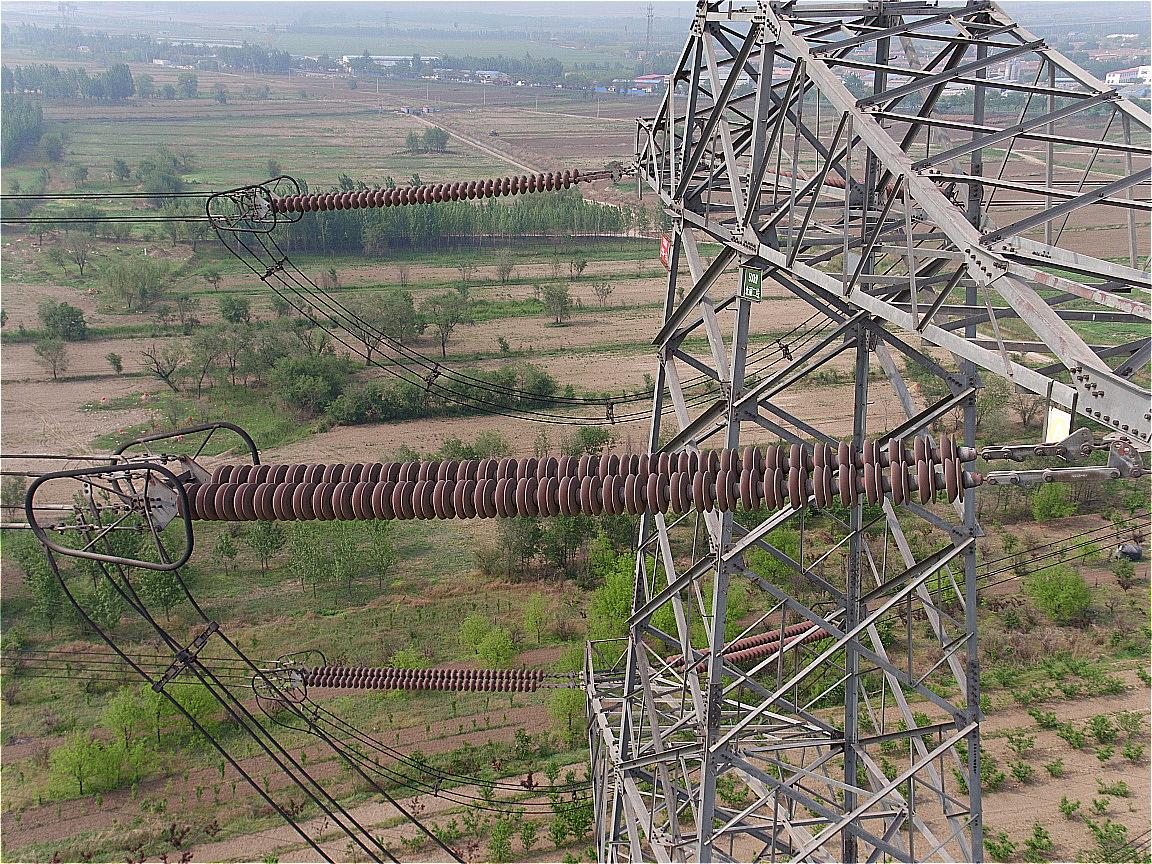insultor1: (272, 167, 581, 217), (304, 663, 545, 695)
insultor2: (178, 431, 966, 521)
